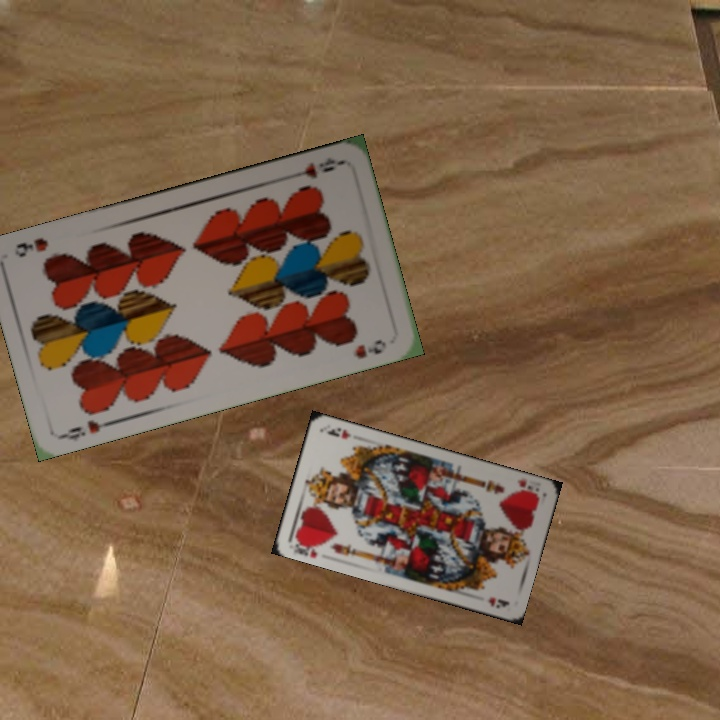H9: (57, 416, 116, 443), (286, 154, 344, 181)
HK: (289, 535, 325, 561), (511, 474, 542, 499)
